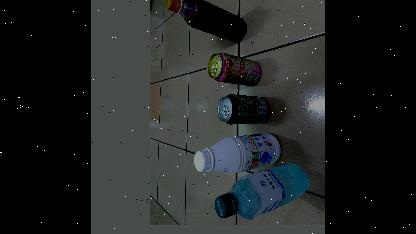Can: (206, 51, 262, 85), (216, 93, 270, 125)
Plastic Bottle: (213, 162, 309, 220), (193, 131, 281, 175), (165, 0, 247, 42)
